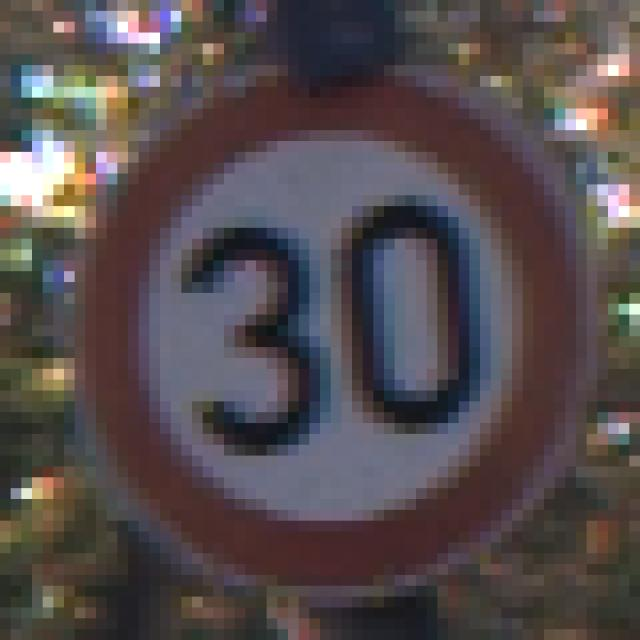Speed Limit -30-: (53, 49, 566, 580)
